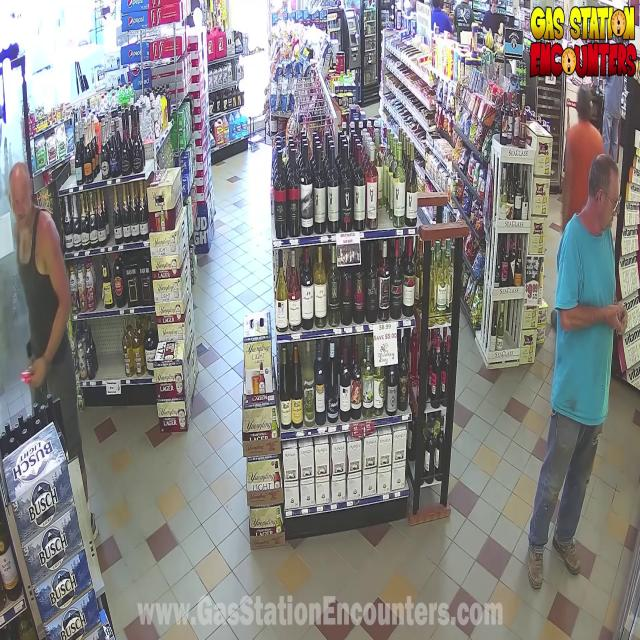Product: (16, 357, 39, 391)
normal: (516, 156, 640, 578)
shoplifting: (0, 135, 132, 532)
